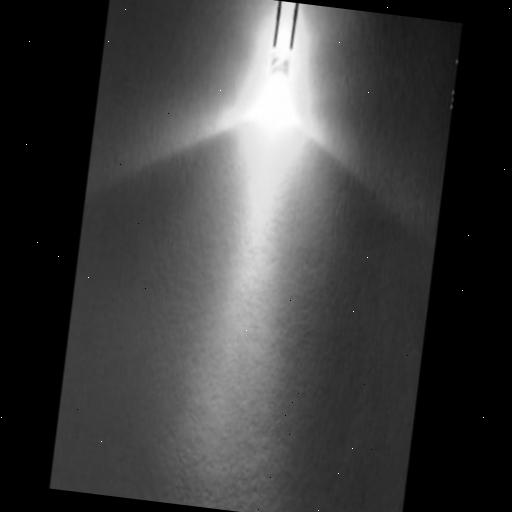LED: (55, 0, 470, 512)
